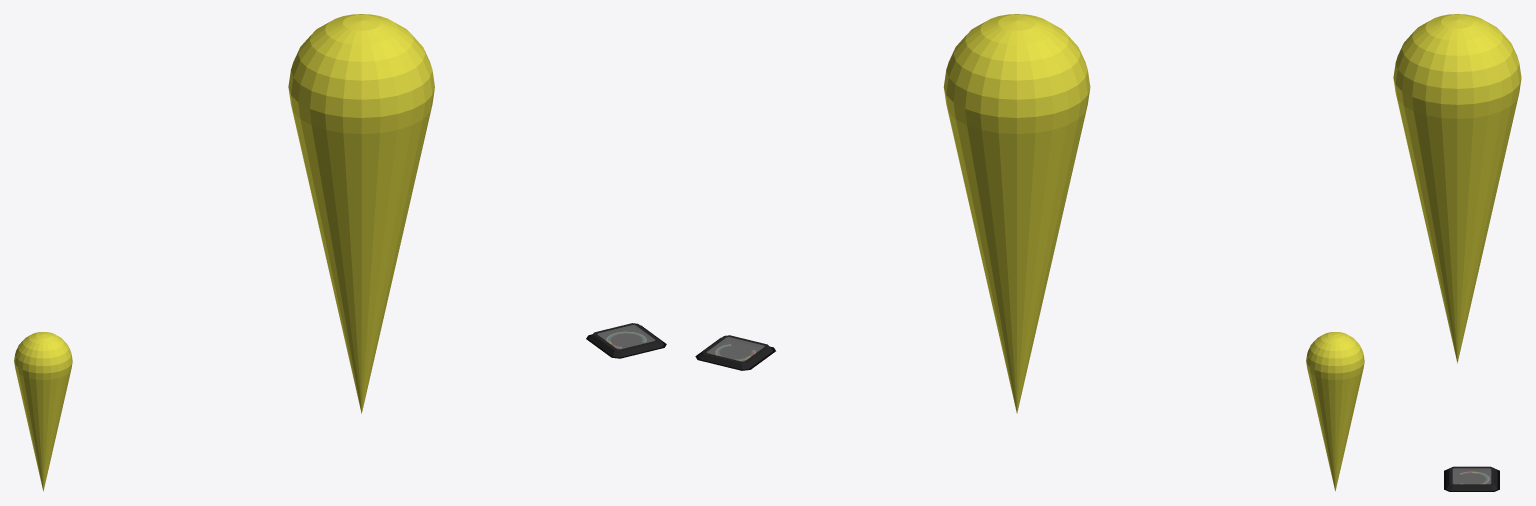
The model's file is placeholders2.dae.
The picture shows the model from 3 angles, left to right: view 1: azimuth 30°, elevation 25°; view 2: azimuth 150°, elevation 25°; view 3: azimuth 270°, elevation 25°; orthographic projection. The views are drawn at different scales.
Parts seen in each view (by area): view 1: marker2, marker, fuel_dial_base (×2); view 2: marker2, marker, fuel_dial_base (×2); view 3: marker2, fuel_dial_base (×4).
Part boxes in pixels (bbox=[...]): marker2: bbox=[288, 14, 434, 413]; marker: bbox=[14, 332, 72, 491]; fuel_dial_base (×2): bbox=[588, 323, 663, 357]; marker2: bbox=[943, 14, 1090, 413]; marker: bbox=[1306, 332, 1364, 491]; fuel_dial_base (×2): bbox=[698, 335, 773, 369]; marker2: bbox=[1393, 14, 1521, 363]; fuel_dial_base (×4): bbox=[1444, 466, 1499, 491].
Bounding box in the file's own units: 59.93 × 11.81 × 34.99.
